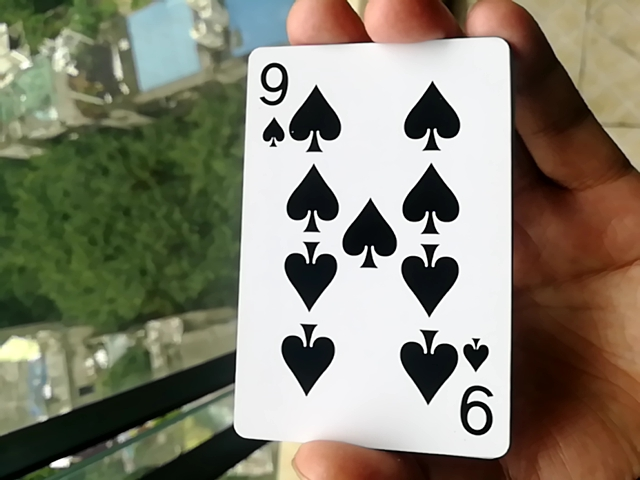ht 9: (237, 19, 499, 463)
